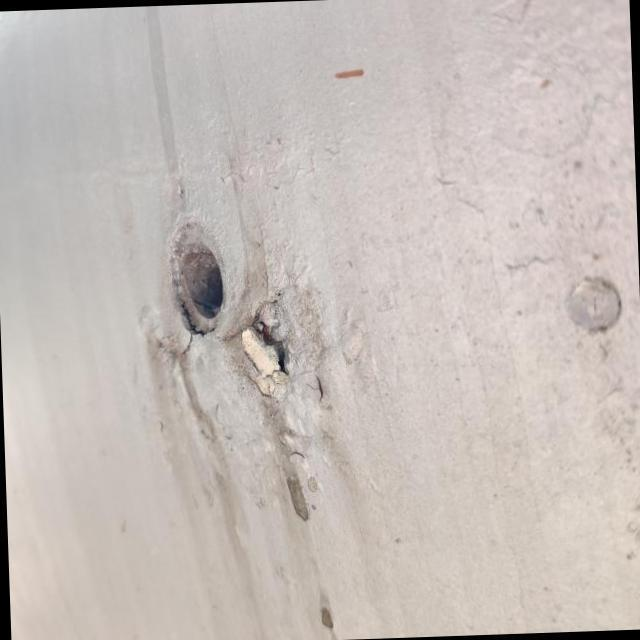Rupture: (198, 279, 322, 420)
